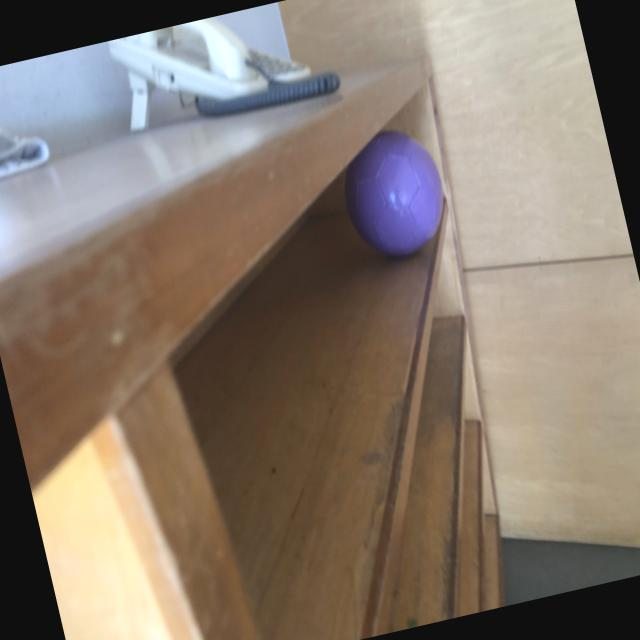purple_ball: (330, 123, 456, 270)
